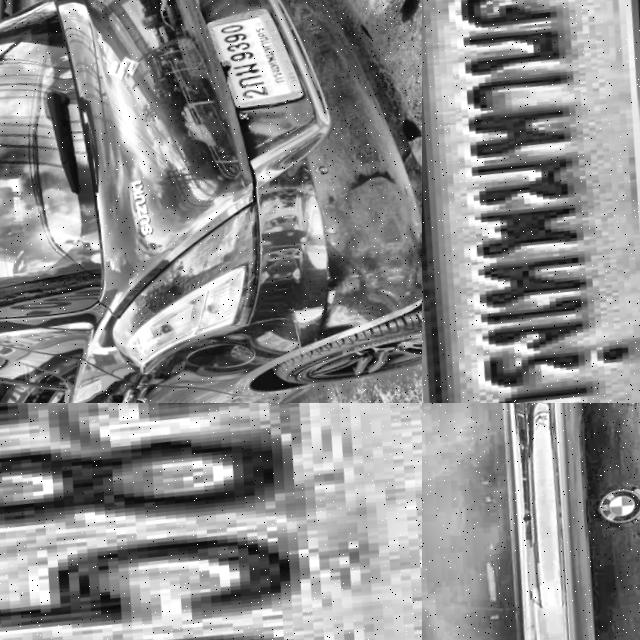license-plate: (0, 403, 422, 640), (422, 0, 640, 403), (199, 0, 313, 109)
